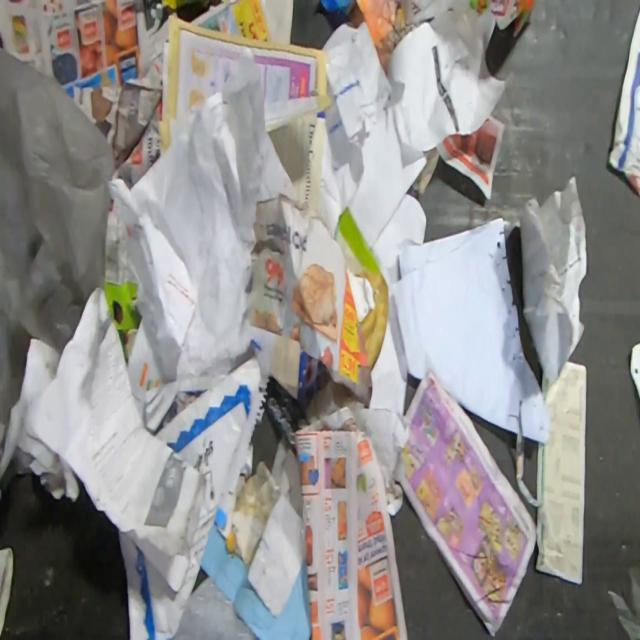soft_plastic: (0, 45, 116, 465)
